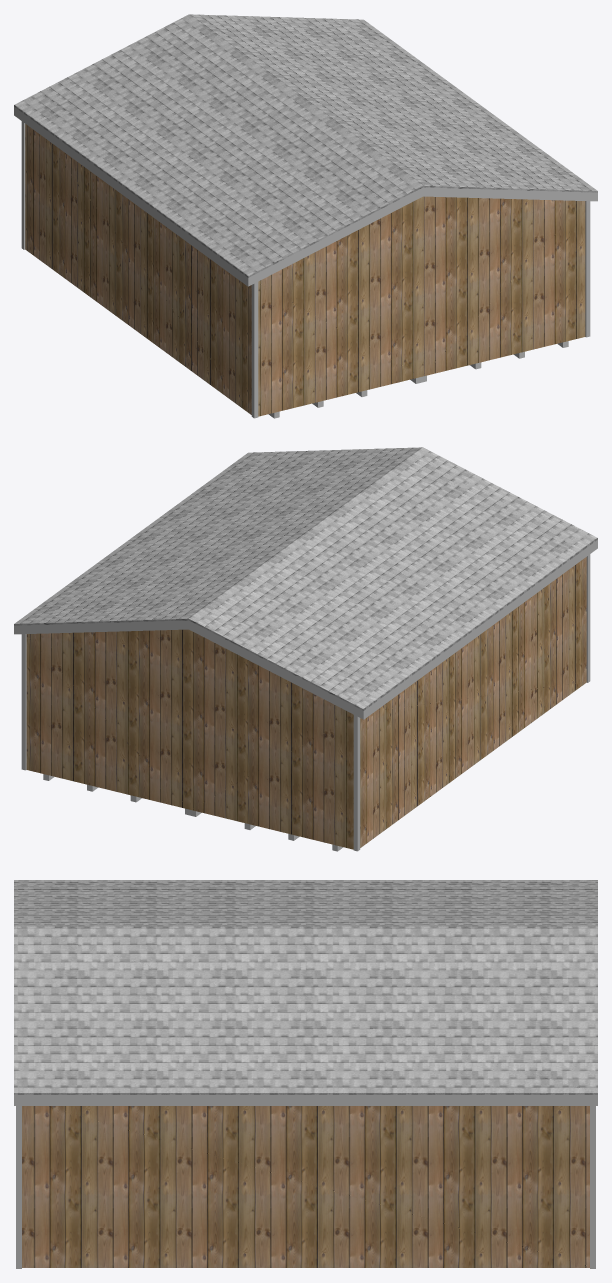
The model's file is Double Garage 3-12 PITCH ROOF_20x24.obj.
3 renders of one model, top to bottom at view 1: azimuth 30°, elevation 25°; view 2: azimuth 150°, elevation 25°; view 3: azimuth 270°, elevation 25°, orthographic. The views are drawn at different scales.
Parts seen in each view (by area): view 1: Roof, Shed, Sides, Trim; view 2: Roof, Shed, Sides, Trim; view 3: Roof, Shed, Sides, Trim.
Part boxes in pixels (left/top/right/bottom): Roof: left=14, top=14, right=597, bottom=277; Shed: left=25, top=124, right=585, bottom=416; Sides: left=14, top=107, right=597, bottom=286; Trim: left=21, top=121, right=590, bottom=418; Roof: left=14, top=447, right=597, bottom=710; Shed: left=26, top=557, right=586, bottom=849; Sides: left=14, top=540, right=597, bottom=719; Trim: left=21, top=554, right=590, bottom=851; Roof: left=14, top=880, right=597, bottom=1094; Shed: left=22, top=1106, right=589, bottom=1267; Sides: left=14, top=1095, right=597, bottom=1105; Trim: left=16, top=1106, right=595, bottom=1268.
Size of the model in its own units: 6.4 by 3.46 by 7.42.
